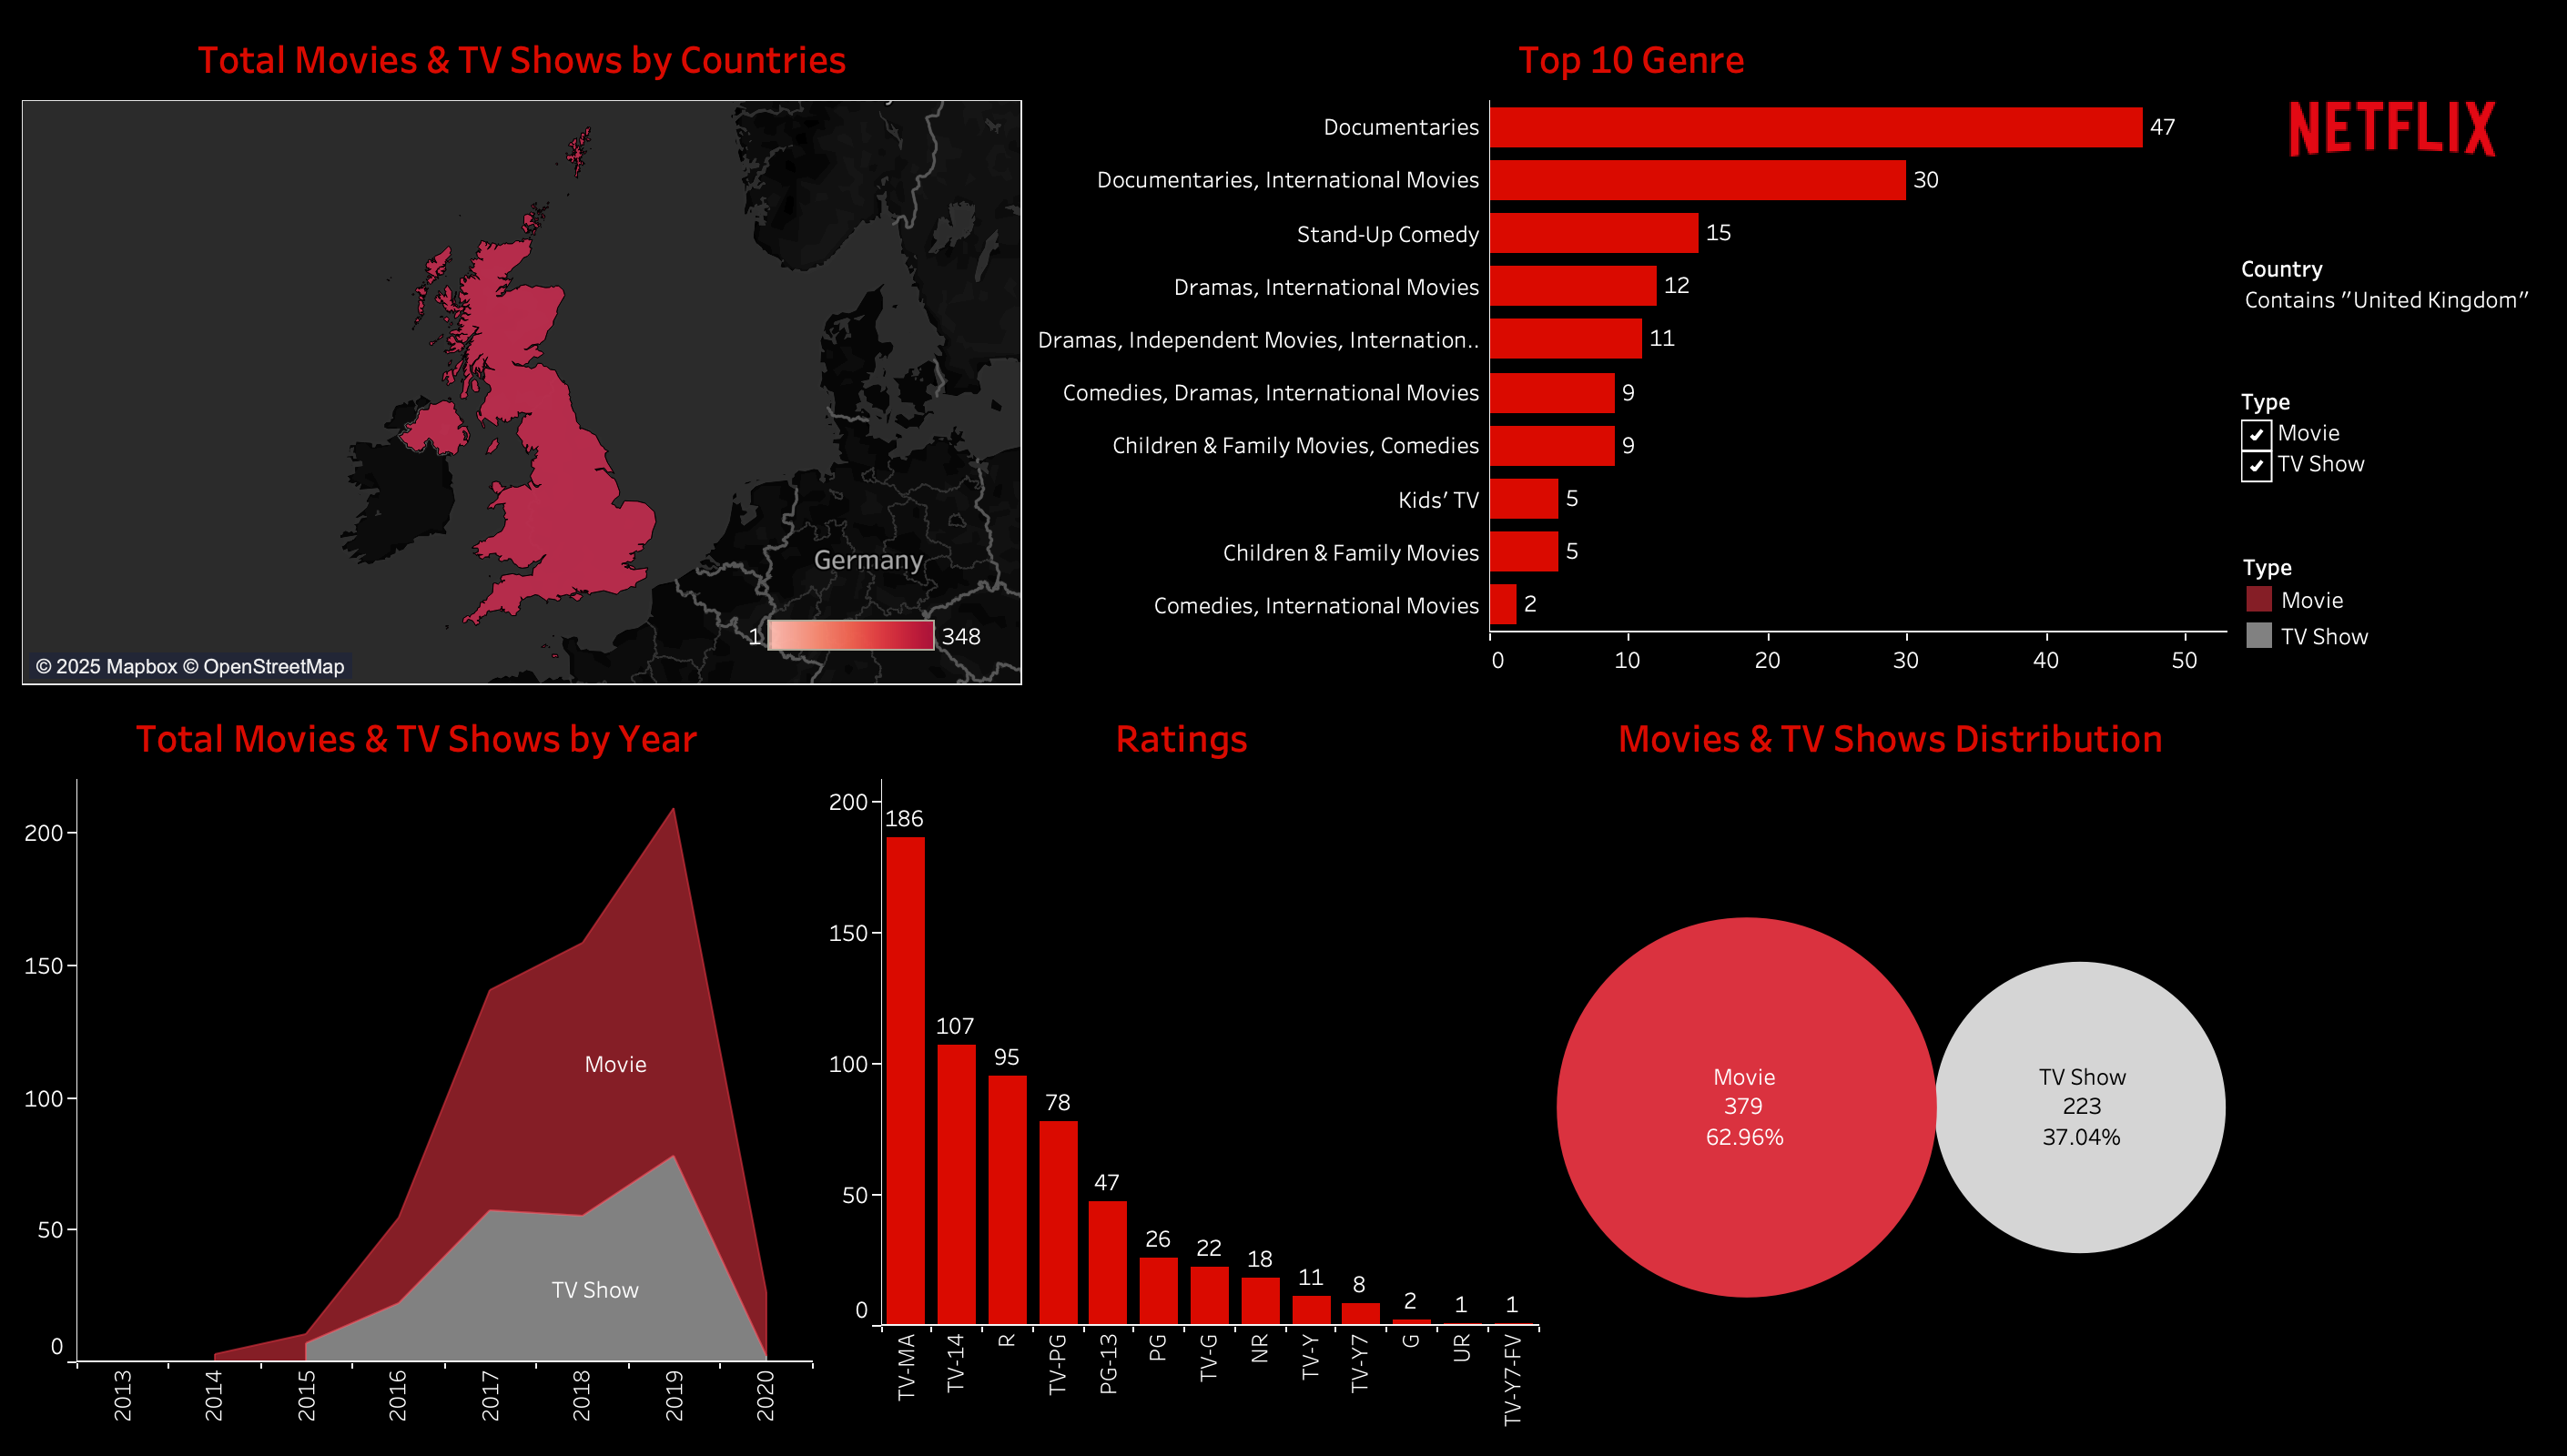

The dashboard page shown, as its layout file describes it:
{"tool":"tableau","page":{"name":"Netflix","canvas":[1410,800],"ordinal":0},"visuals":[{"type":"worksheet","title":"Total Movies & TV Shows by Countries","mark":"Multipolygon","box":[8,8,558.3,373]},{"type":"worksheet","title":"Top 10 Genre","mark":"Automatic","rows":["listed_in"],"cols":["show_id"],"box":[566.3,8,660.7,373]},{"type":"image","param":"/Users/siya/Downloads/Netflix Dashboard/Netflix logo.png","box":[1227,8,175,126]},{"type":"filter","title":"Total Movies & TV Shows by Year","param":"[federated.1kptx0v0jbjw831bnegm413axtkj].[none:country:nk]","box":[1227,134,175,73]},{"type":"filter","title":"Total Movies & TV Shows by Year","param":"[federated.1kptx0v0jbjw831bnegm413axtkj].[none:type:nk]","box":[1227,207,175,90]},{"type":"legend","title":"Total Movies & TV Shows by Year","param":"[federated.1kptx0v0jbjw831bnegm413axtkj].[none:type:nk]","box":[1227,297,175,82]},{"type":"legend","title":"Total Movies & TV Shows by Countries","param":"[federated.1kptx0v0jbjw831bnegm413axtkj].[ctd:show_id:qk]","box":[407,337,137,34]},{"type":"worksheet","title":"Total Movies & TV Shows by Year","mark":"Area","rows":["show_id"],"cols":["date_added"],"box":[8,381,442.4,411]},{"type":"worksheet","title":"Ratings","mark":"Automatic","rows":["show_id"],"cols":["rating"],"box":[450.4,381,399.3,411]},{"type":"worksheet","title":"Movies & TV Shows Distribution","mark":"Circle","box":[849.7,381,377.3,411]}]}

Visuals, with their boxes in screenshot pixels (x1, y1, x2, y2), scaled from the page's 1410x800 canvas onto the 2567x1456 screenshot:
"Total Movies & TV Shows by Countries" worksheet (Multipolygon marks): 15,15,1031,693
"Top 10 Genre" worksheet: 1031,15,2234,693
image: 2234,15,2552,244
"Total Movies & TV Shows by Year" filter: 2234,244,2552,377
"Total Movies & TV Shows by Year" filter: 2234,377,2552,541
"Total Movies & TV Shows by Year" legend: 2234,541,2552,690
"Total Movies & TV Shows by Countries" legend: 741,613,990,675
"Total Movies & TV Shows by Year" worksheet (Area marks): 15,693,820,1441
"Ratings" worksheet: 820,693,1547,1441
"Movies & TV Shows Distribution" worksheet (Circle marks): 1547,693,2234,1441
